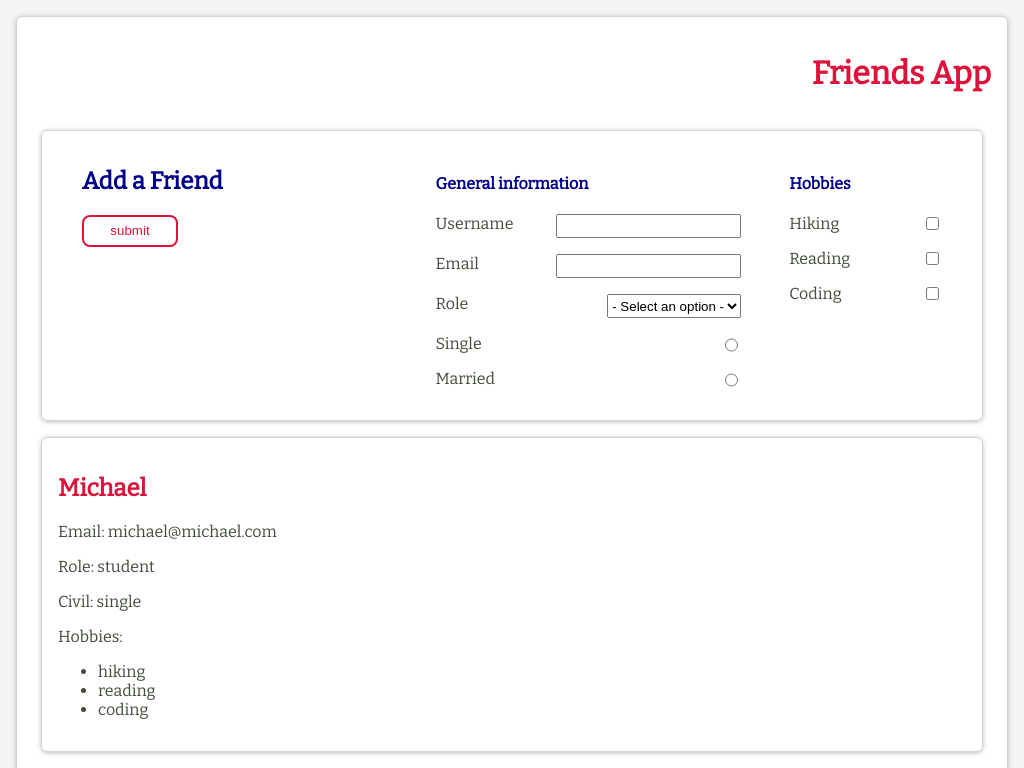
Test case: Test › Submit button will enable when inputs entered › check the hint of input
Type "hello" into the field named "username" at x=649, y=226, box [556, 214, 741, 238]
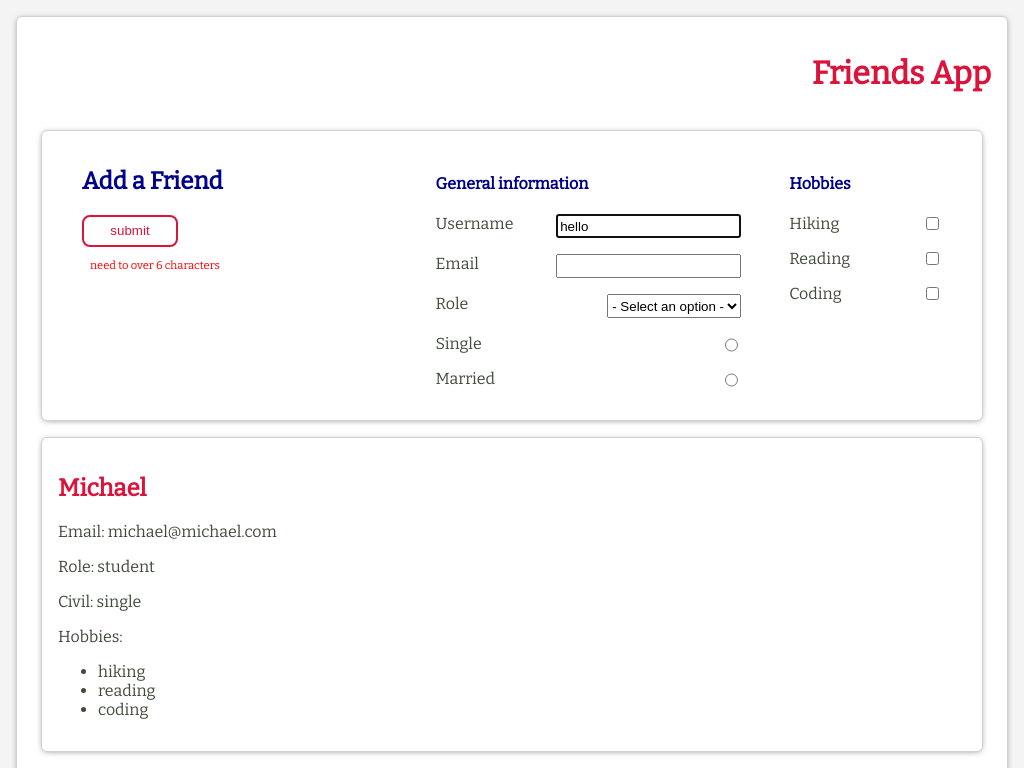
Now the text "need to over 6 characters" is shown, box [90, 259, 220, 272]
